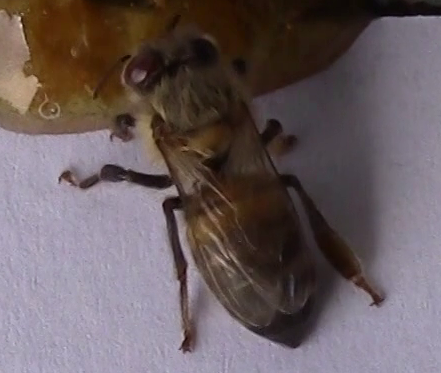Varroa destructor: (123, 50, 165, 87)
